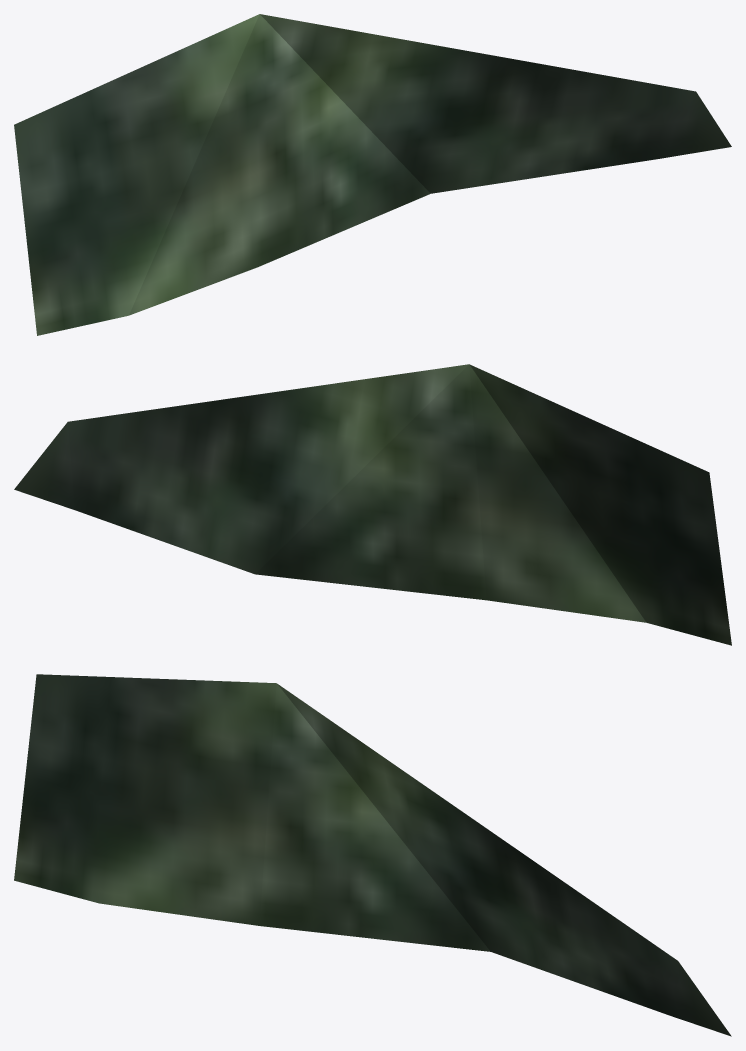
3 views of the same model, one above another, from view 1: azimuth 30°, elevation 25°; view 2: azimuth 150°, elevation 25°; view 3: azimuth 330°, elevation 25° (orthographic). The views are drawn at different scales.
Size of the model in its own units: 6.57 by 2.15 by 0.7869.
Materials: 1 (1 with a texture image).
